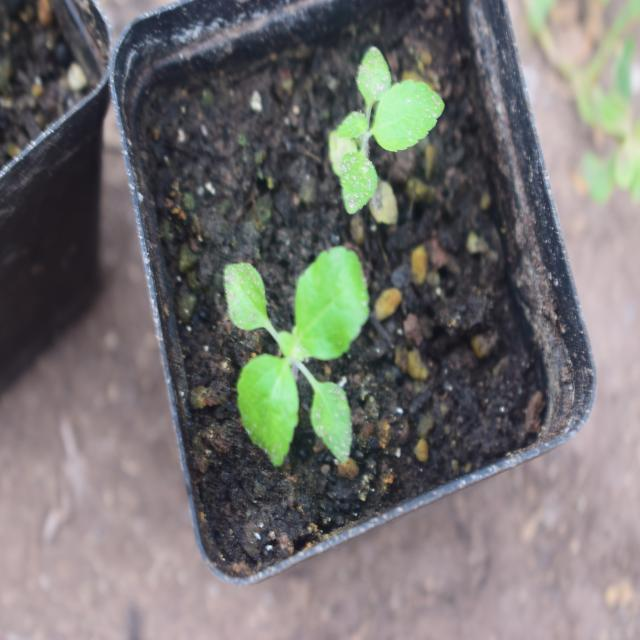billygoat_weed: (220, 234, 369, 465), (335, 41, 438, 218)
